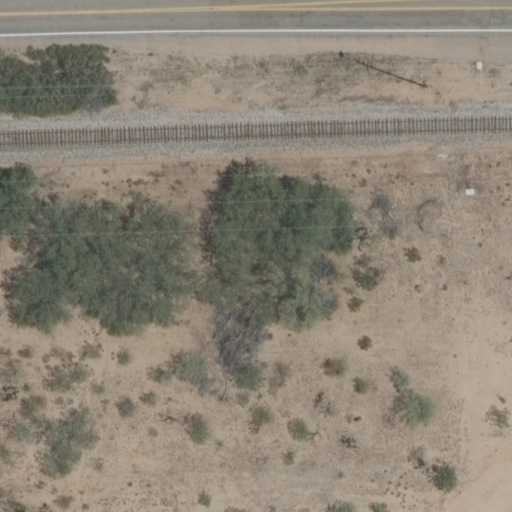DT: (355, 58, 429, 90)
